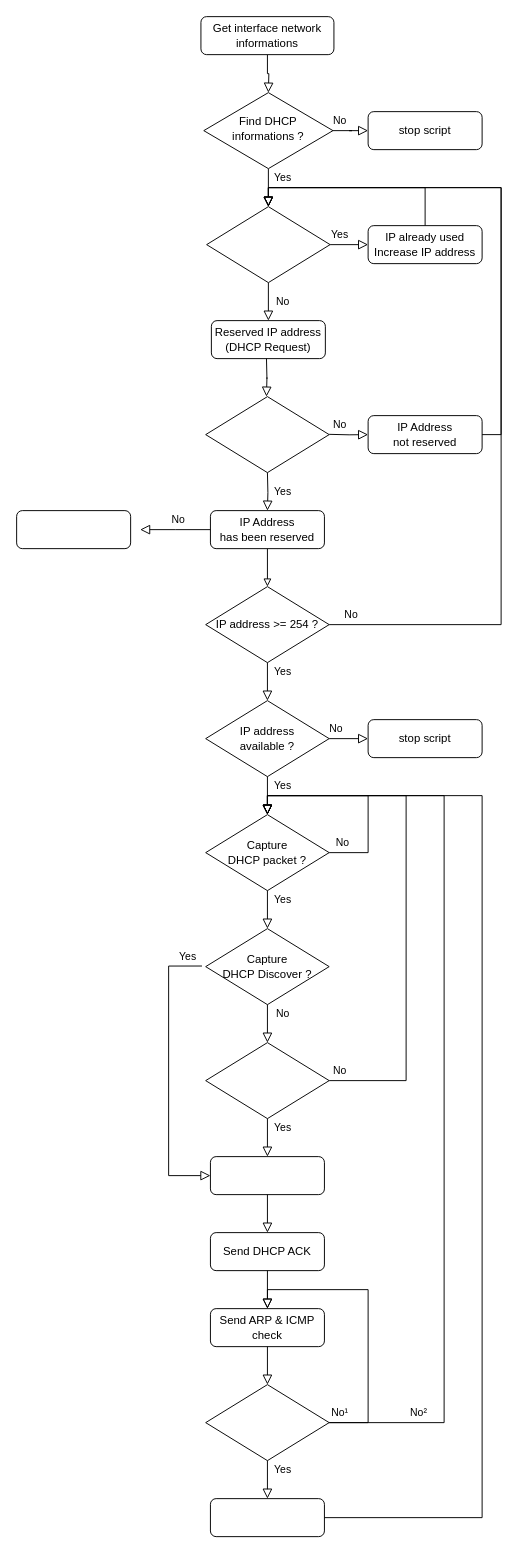
The diagram is 527 pixels wide and 1553 high, and some of its shapes have lost their labels. Here are the shapes that lost their labels. From the top down, the centre of each, then its label:
(x=268, y=244): ARP scan response ?
(x=267, y=434): Response ? (DHCP ACK)
(x=73, y=529): fct_keep_starvation + renew dhcp bails
(x=267, y=1080): Capture DHCP Request ?
(x=266, y=1175): Send DHCP OFFER
(x=267, y=1422): ARP & ICMP Response ?
(x=266, y=1517): New host connected
